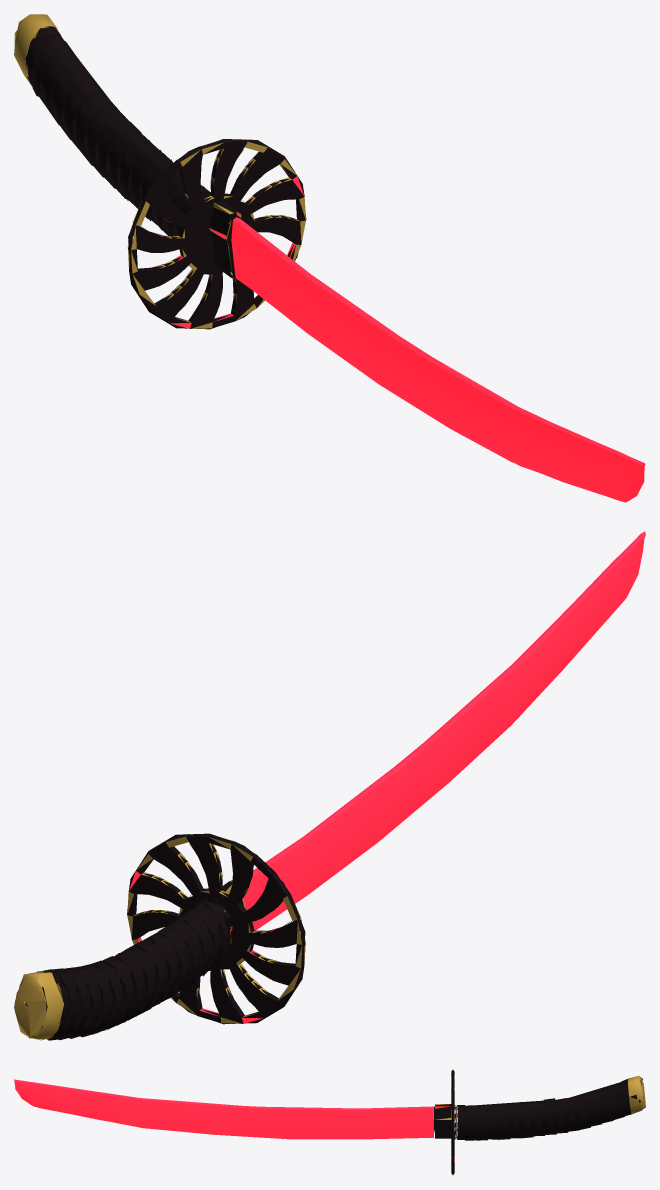
File: w_katana_muramasa.glb
The picture shows the model from 3 angles, top to bottom: view 1: azimuth 30°, elevation 25°; view 2: azimuth 150°, elevation 25°; view 3: azimuth 270°, elevation 25°; orthographic projection. The views are drawn at different scales.
Visible parts, largest first — view 1: Muramasa; view 2: Muramasa; view 3: Muramasa.
Boxes of the visible parts, x1,y1,x2,y2 form: Muramasa: (14,14,645,502); Muramasa: (14,531,645,1040); Muramasa: (14,1070,645,1174).
Size of the model in its own units: 0.2088 by 0.2096 by 1.25.
